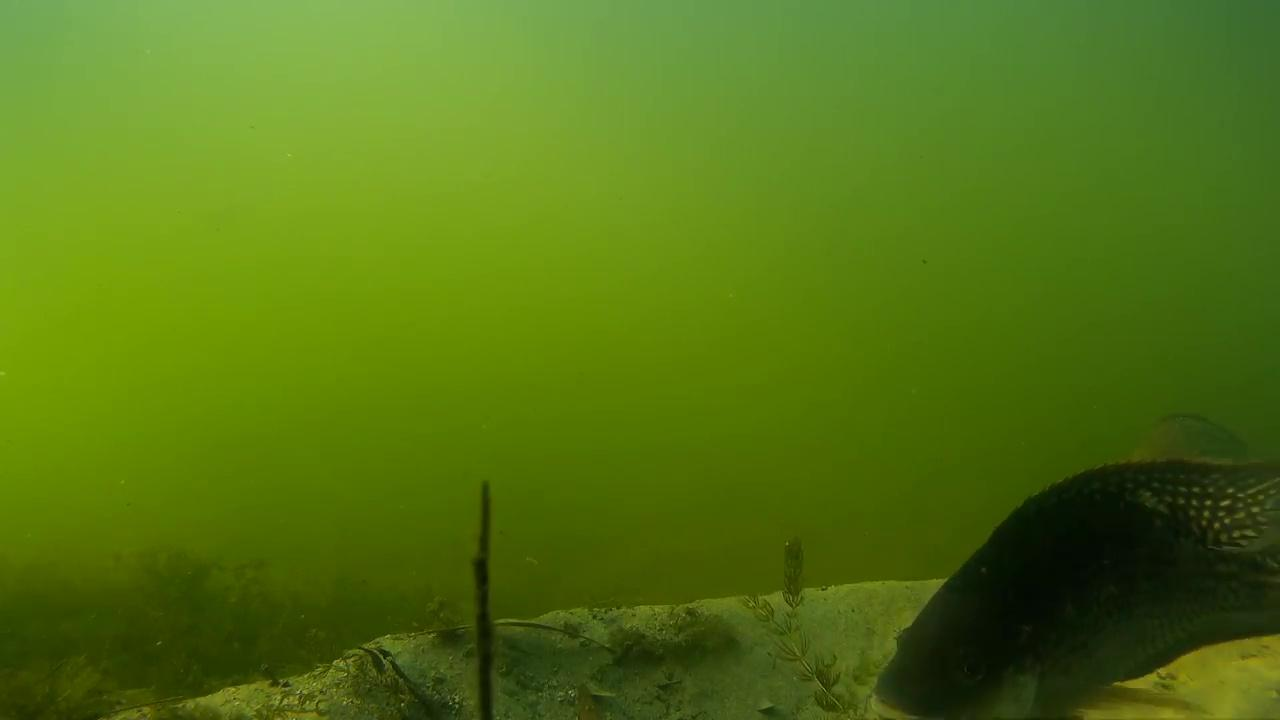Tilapia: (865, 462, 1280, 720), (1095, 394, 1252, 486)
